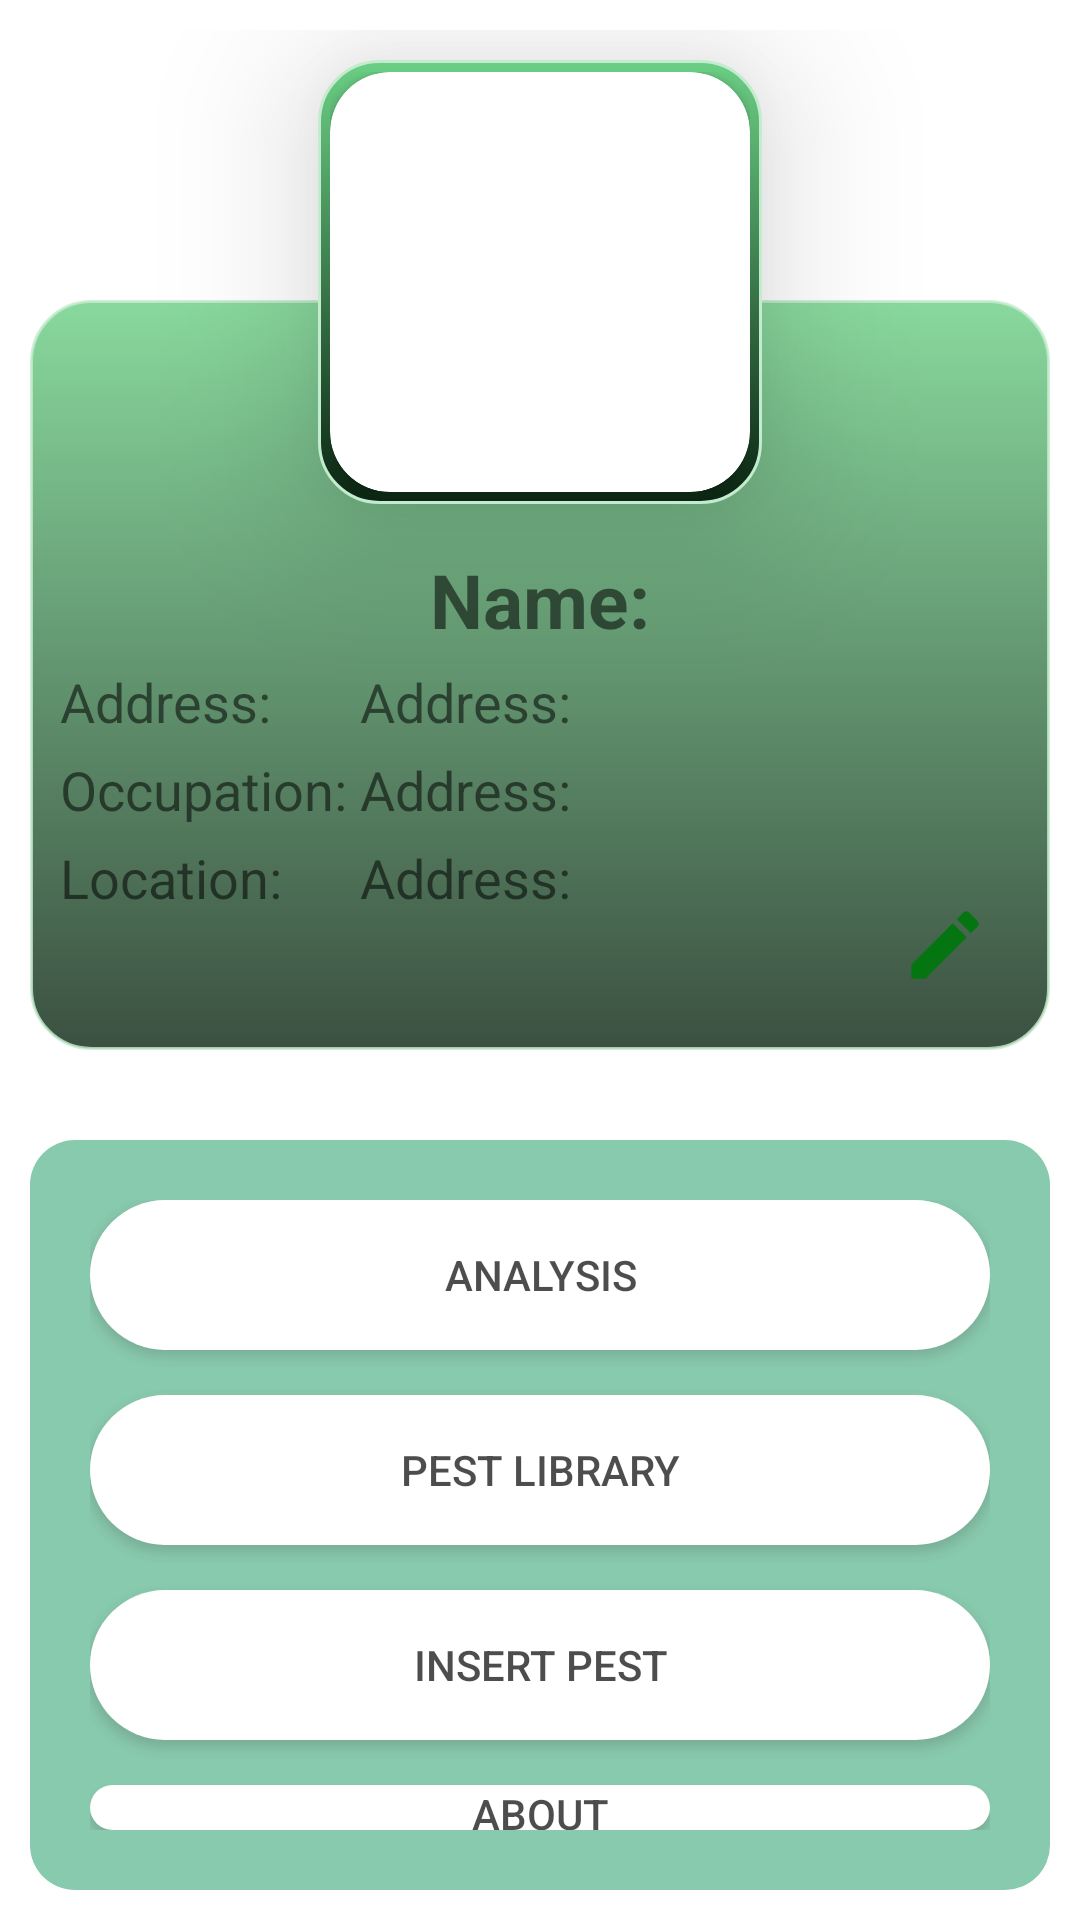

Point at icon controls on the screen. Image size 1080px×1920px, points as [x,y].
edit: [945,945]
